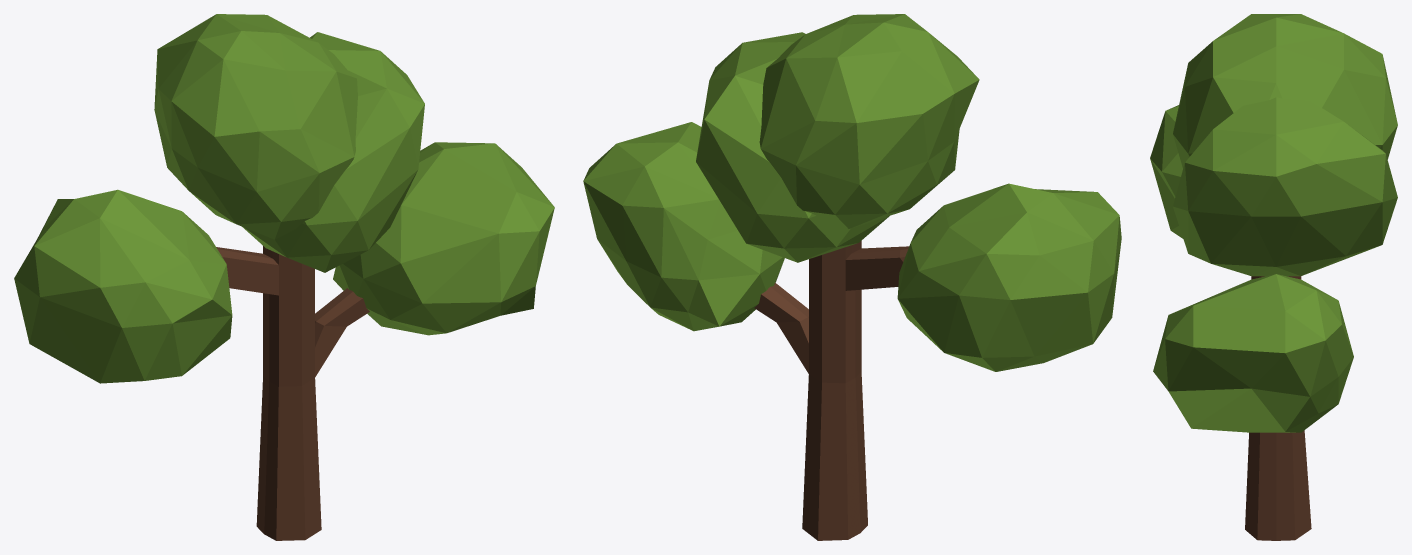
File: tree2.fbx
3 renders of one model, left to right at view 1: azimuth 30°, elevation 25°; view 2: azimuth 150°, elevation 25°; view 3: azimuth 270°, elevation 25°, orthographic. The views are drawn at different scales.
Visible parts, largest first — view 1: Cube; view 2: Cube; view 3: Cube.
Part boxes in pixels (x1=…): Cube: x1=14, y1=14, x2=554, y2=540; Cube: x1=583, y1=14, x2=1121, y2=540; Cube: x1=1150, y1=14, x2=1397, y2=540.
Size of the model in its own units: 344 by 335 by 154.
